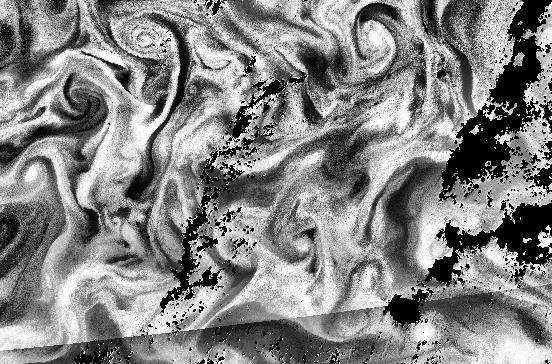CE: (351, 21, 398, 60), (121, 24, 173, 56), (12, 156, 51, 194), (64, 84, 100, 119)
